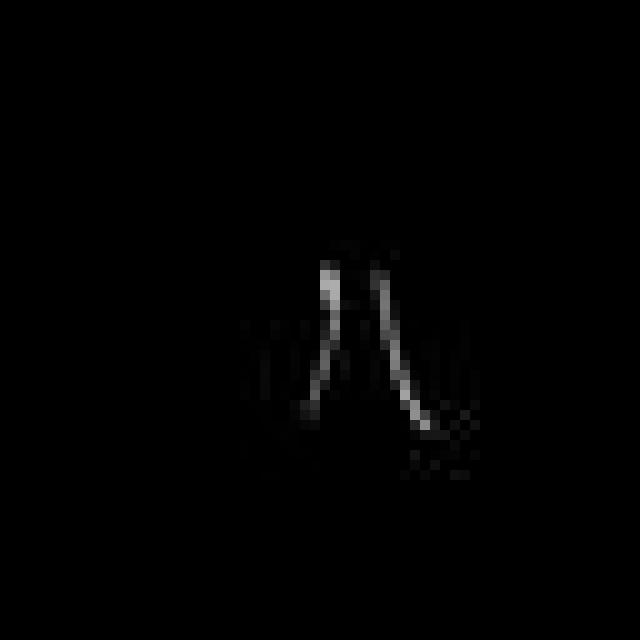8 -eight-: (288, 249, 442, 443)
